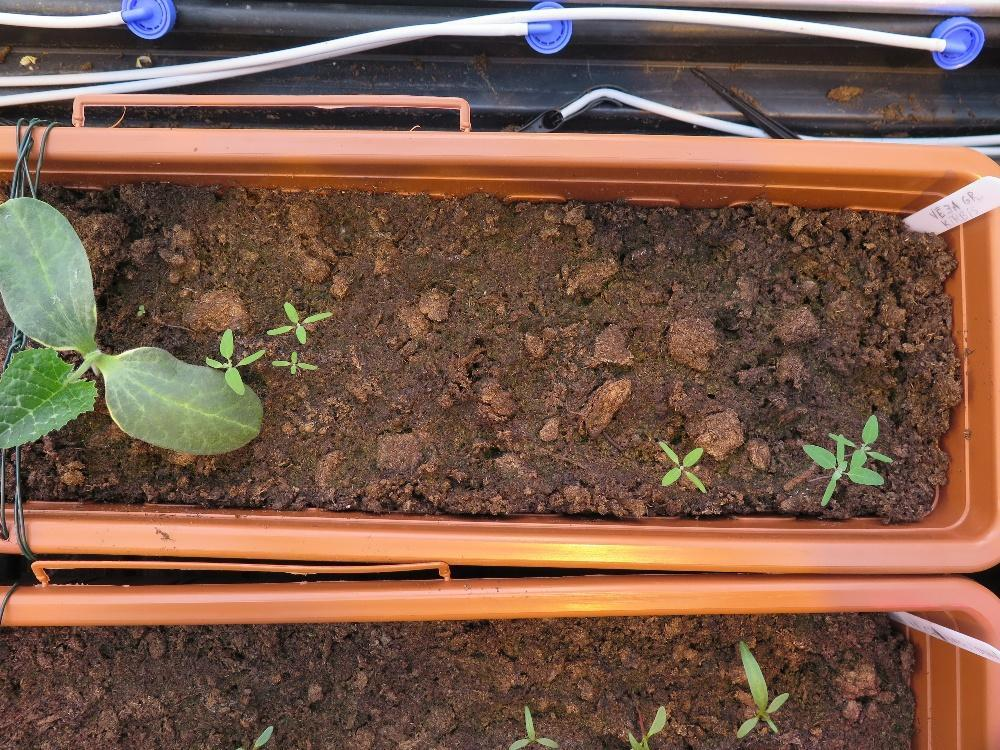weed: (734, 639, 789, 738), (264, 300, 333, 343), (656, 438, 706, 494), (269, 348, 318, 374)
